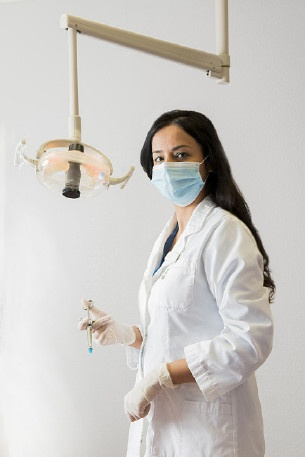Mask: (147, 142, 205, 200)
